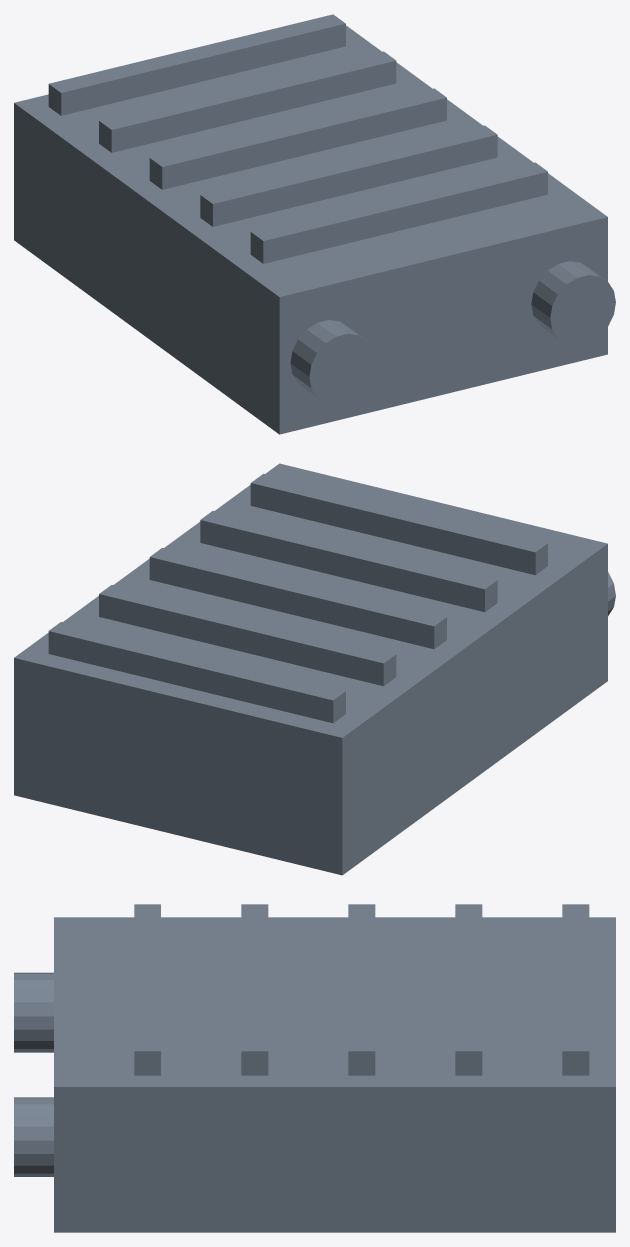
File: 11_inverter_controller.glb
3 views of the same model, one above another, from view 1: azimuth 30°, elevation 25°; view 2: azimuth 150°, elevation 25°; view 3: azimuth 270°, elevation 25° (orthographic). The views are drawn at different scales.
Parts seen in each view (by area): view 1: Inverter and controller; view 2: Inverter and controller; view 3: Inverter and controller.
Part boxes in pixels (box(x1,y1,x2,y2)): Inverter and controller: box(14, 14, 615, 434); Inverter and controller: box(14, 463, 615, 875); Inverter and controller: box(14, 904, 615, 1232).
Size of the model in its own units: 0.015 by 0.007 by 0.0225.
